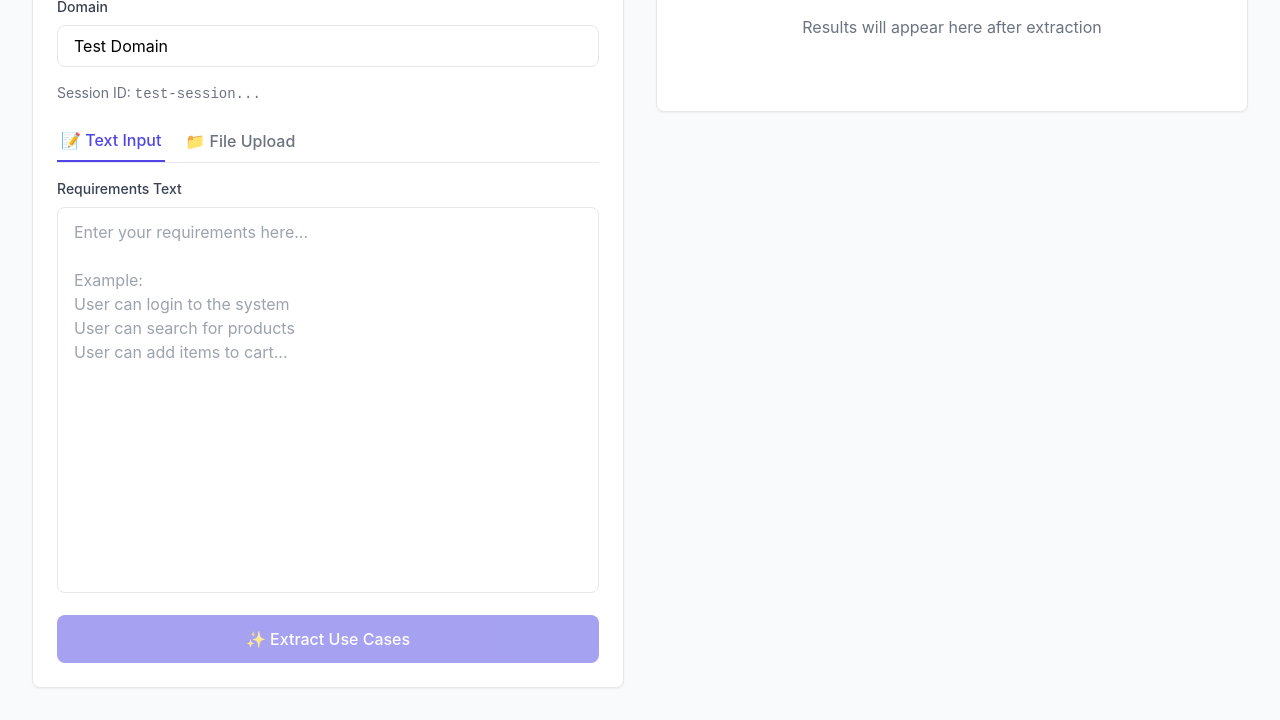
Test: Extraction Component › Results Display › handles loading state
(page scrolled)
Type "Test" into the text box labelled "Requirements Text" at (328,400), box [57,207,599,593]
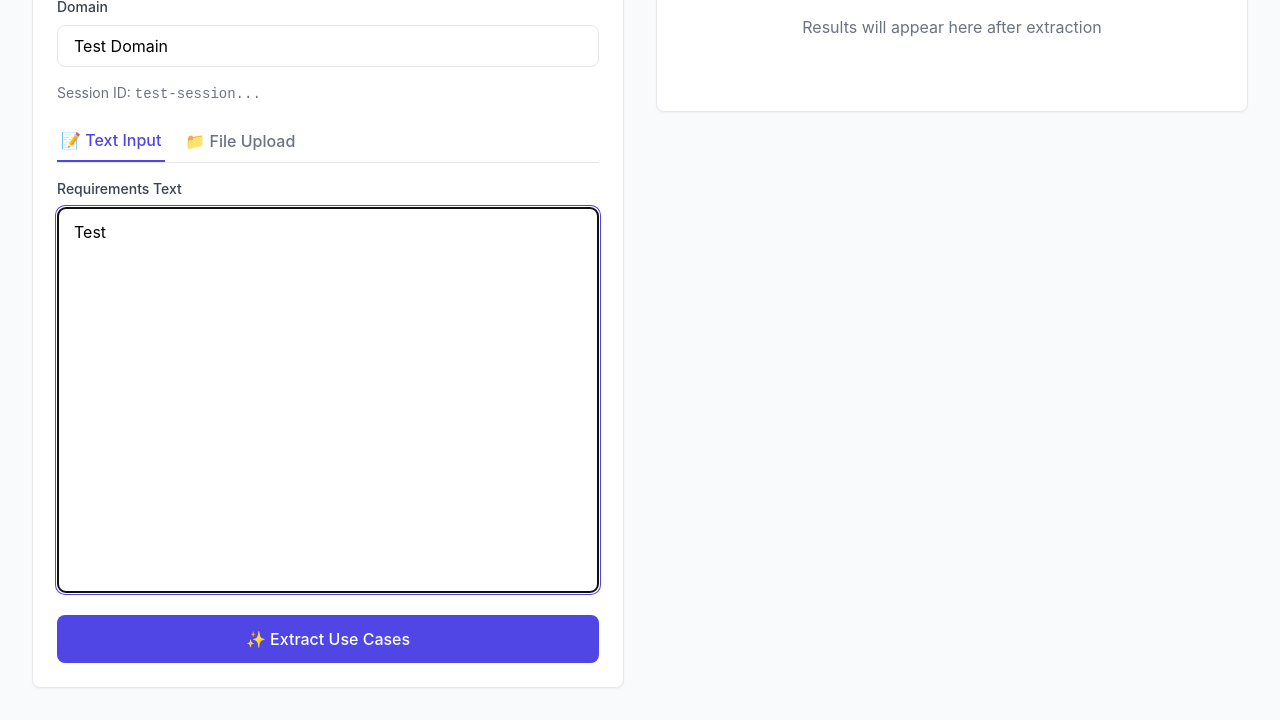
Click the button "✨ Extract Use Cases" at (328,639), box [57,615,599,663]
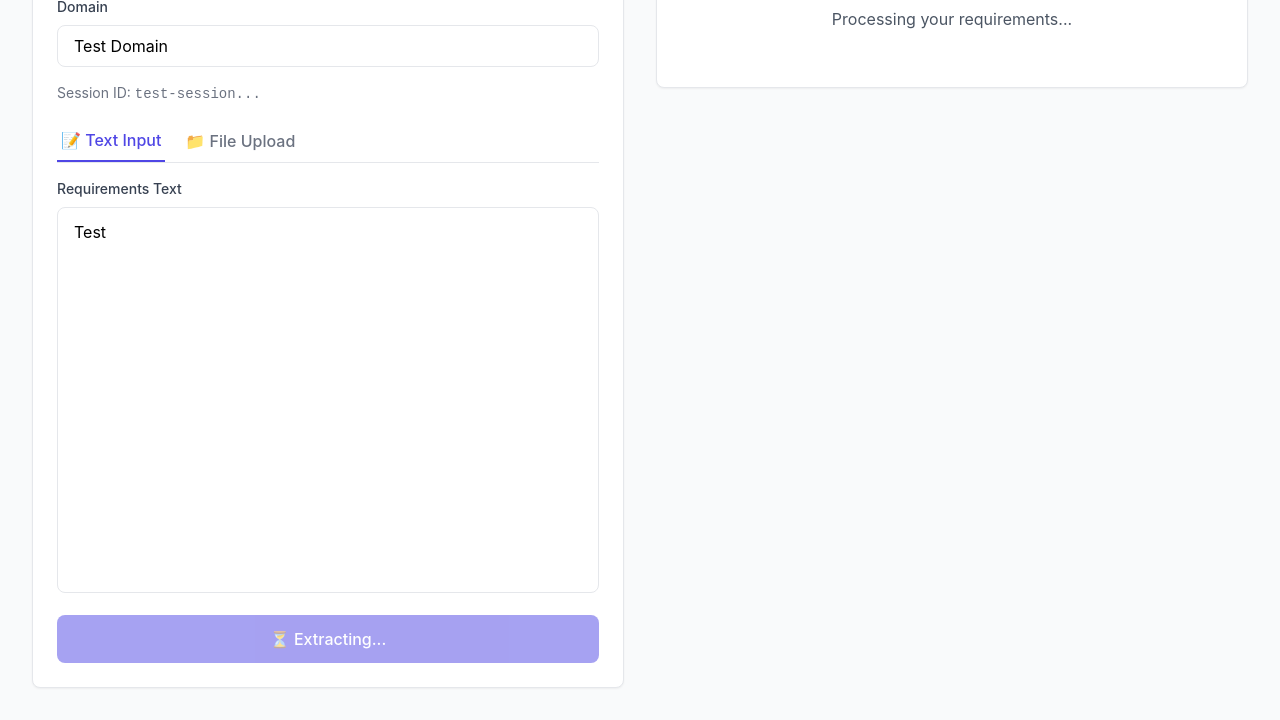
Now the text "Processing your requirements..." is shown, box [832,7,1072,31]
